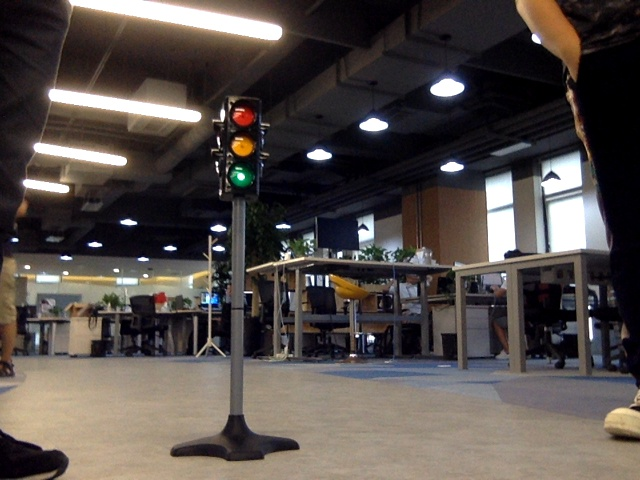green: (224, 103, 256, 191)
